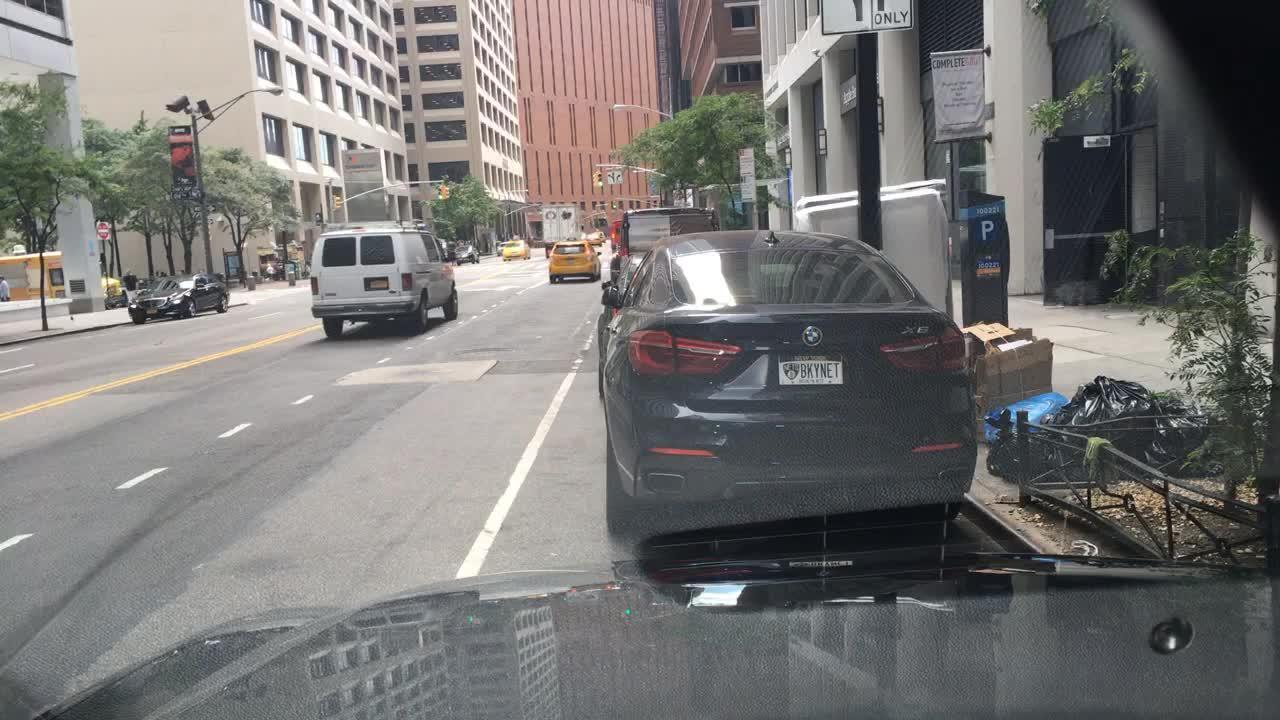bmw: (799, 323, 826, 351)
